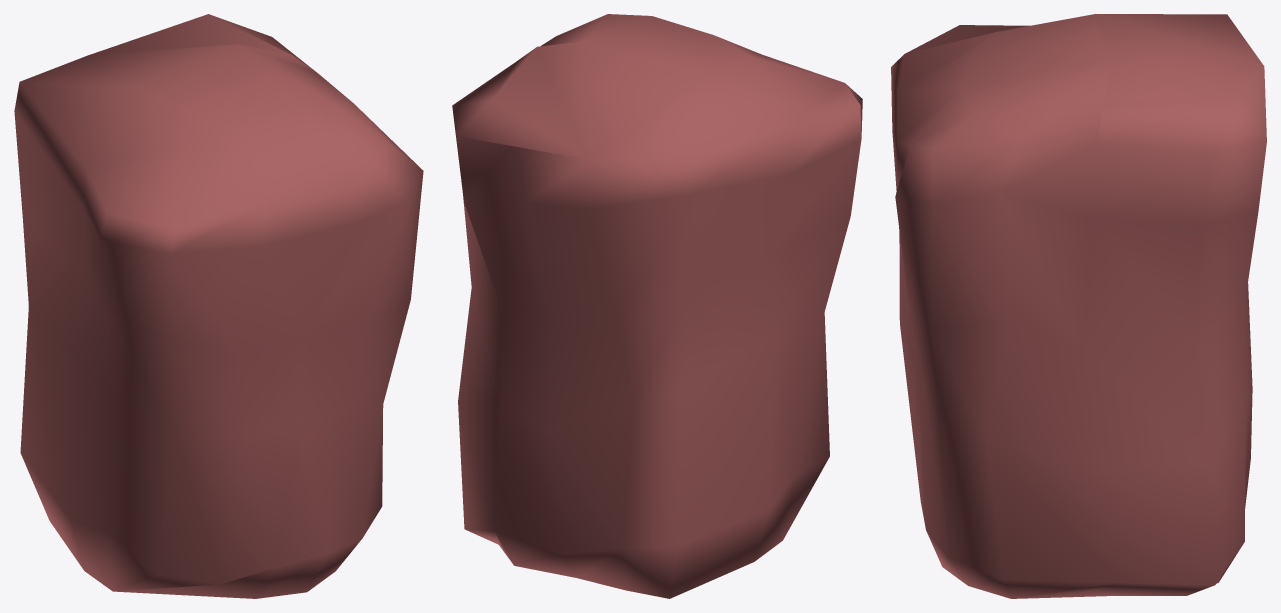
The model's file is SM_cliff02_low.fbx.
The picture shows the model from 3 angles, left to right: view 1: azimuth 30°, elevation 25°; view 2: azimuth 150°, elevation 25°; view 3: azimuth 270°, elevation 25°; orthographic projection. The views are drawn at different scales.
Visible parts, largest first — view 1: SM_cliff02_low; view 2: SM_cliff02_low; view 3: SM_cliff02_low.
Boxes of the visible parts, x1,y1,x2,y2 form: SM_cliff02_low: (14, 14, 423, 598); SM_cliff02_low: (452, 14, 862, 598); SM_cliff02_low: (891, 14, 1266, 598).
Size of the model in its own units: 7.96 by 12.5 by 7.99.
